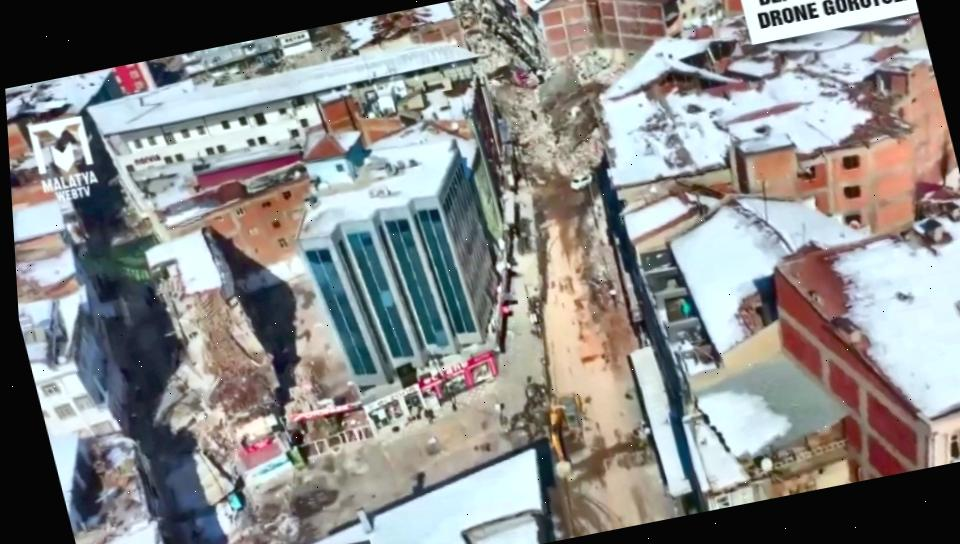kapali: (493, 81, 595, 214), (458, 12, 544, 92)
